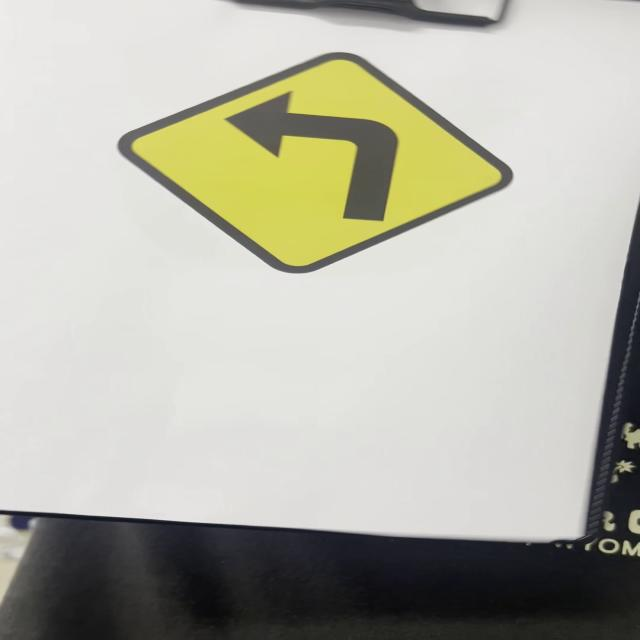left: (143, 52, 509, 264)
